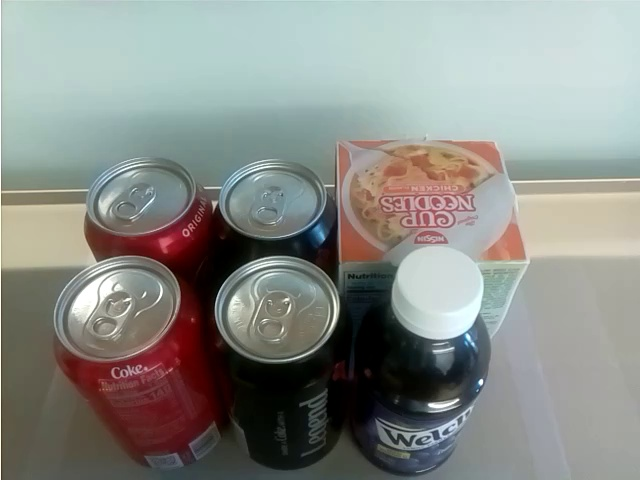cocacola: (50, 259, 216, 476)
cocacola-shadow: (90, 164, 210, 256)
cocacola-zero: (217, 256, 337, 472)
cocacola-zero-shadow: (217, 160, 339, 256)
juice: (352, 244, 490, 476)
noodles-shadow: (337, 143, 539, 263)
